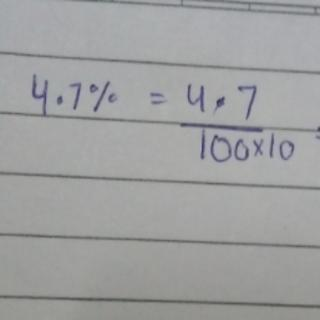.: (211, 92, 229, 116), (53, 92, 65, 105)
0: (209, 134, 230, 164), (277, 139, 297, 161), (234, 140, 250, 163)
1: (266, 131, 277, 161), (198, 131, 207, 155)
4: (30, 72, 49, 118), (187, 83, 204, 110)
7: (237, 82, 258, 124), (69, 82, 81, 109)
